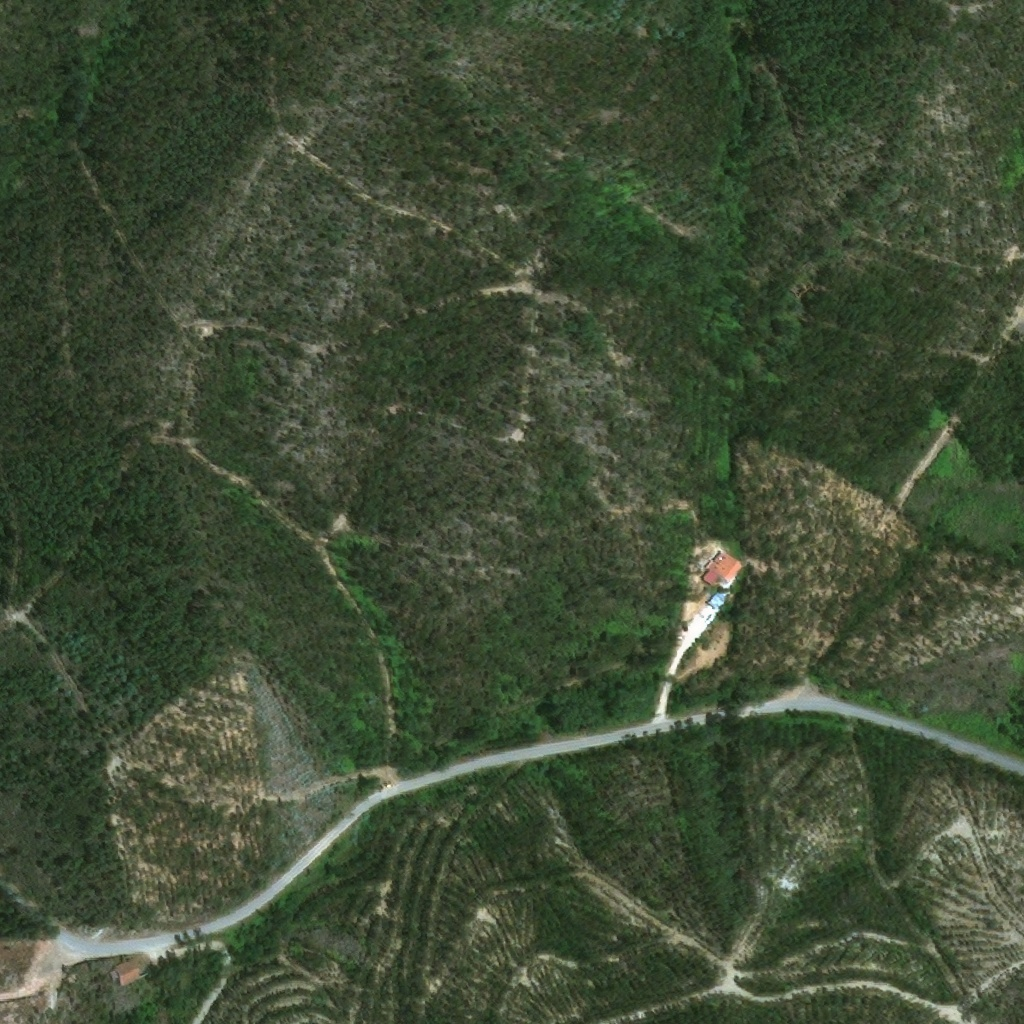0 no-damage: (698, 551, 742, 587), (110, 959, 140, 987)
